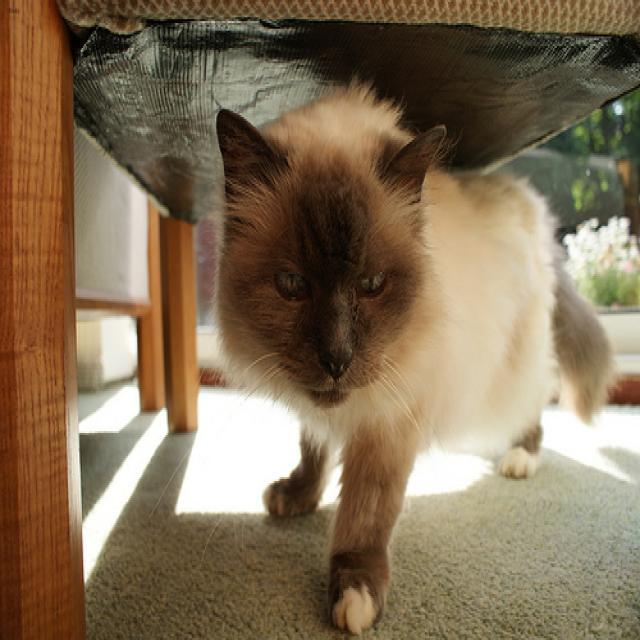Birman: (215, 106, 444, 407)
